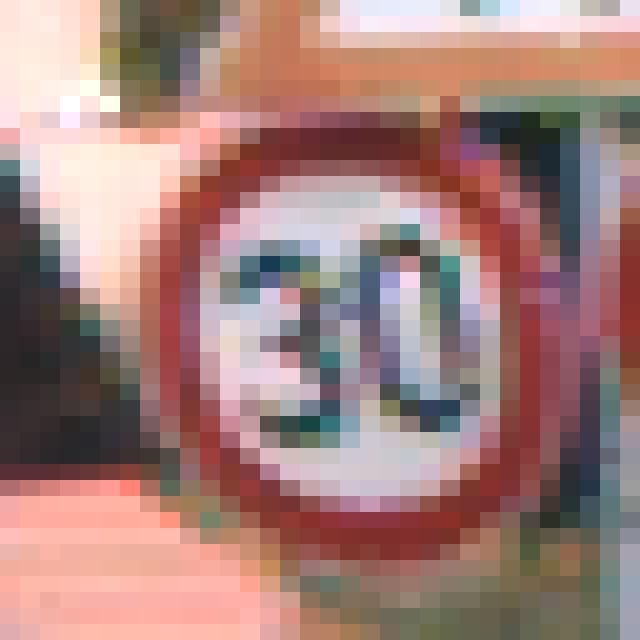Speed Limit -30-: (90, 88, 530, 536)
